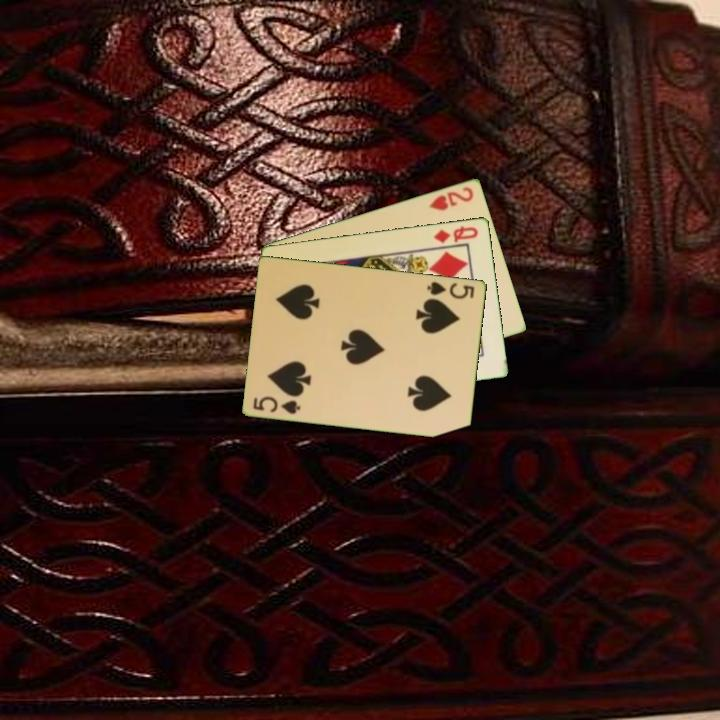2h: (426, 183, 477, 213)
5s: (424, 278, 478, 302), (250, 393, 303, 417)
Qd: (430, 222, 481, 246)
